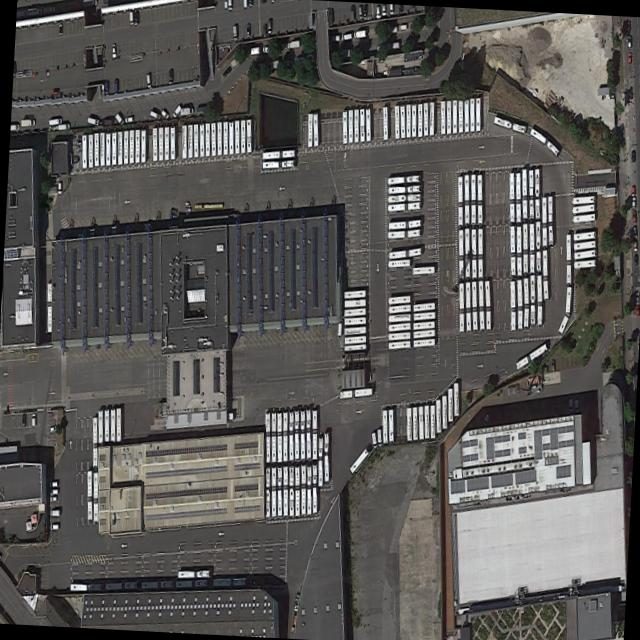large-vehicle: (514, 342, 547, 370), (529, 126, 558, 156), (348, 445, 369, 474), (493, 115, 525, 134), (387, 246, 420, 259), (470, 280, 477, 332), (463, 227, 470, 279), (261, 148, 294, 159), (387, 218, 420, 229), (387, 201, 420, 212), (387, 183, 420, 194), (535, 274, 542, 325), (541, 249, 548, 300), (339, 387, 371, 398), (477, 280, 484, 330), (261, 158, 295, 168), (174, 578, 208, 588), (387, 228, 419, 238), (140, 579, 172, 589), (522, 276, 528, 328), (484, 279, 490, 331), (457, 229, 463, 280), (470, 228, 476, 279), (476, 228, 482, 279), (529, 274, 535, 325), (509, 225, 515, 276), (515, 225, 521, 276), (546, 195, 552, 246), (509, 279, 515, 330), (386, 174, 420, 183), (323, 431, 329, 482), (91, 416, 97, 467), (516, 279, 522, 329), (534, 221, 540, 271), (387, 193, 420, 202), (69, 582, 102, 591), (212, 577, 245, 586), (317, 434, 322, 487), (104, 581, 137, 589), (311, 408, 316, 460), (514, 171, 519, 223), (477, 173, 482, 225), (305, 407, 310, 459), (276, 464, 281, 516), (293, 464, 298, 516), (300, 462, 305, 514), (264, 411, 269, 463), (177, 569, 209, 577), (458, 282, 463, 333), (465, 281, 470, 332), (565, 233, 570, 284), (522, 223, 527, 274), (528, 222, 533, 273), (528, 169, 533, 220), (534, 168, 539, 219), (541, 196, 546, 247), (457, 175, 462, 226), (470, 173, 475, 224), (270, 465, 275, 516), (282, 465, 287, 516), (288, 464, 293, 515), (270, 411, 275, 462), (276, 411, 281, 462), (282, 410, 287, 461), (288, 409, 293, 460), (86, 470, 91, 521), (387, 294, 410, 305), (572, 230, 595, 241), (571, 203, 594, 214), (521, 168, 526, 218), (299, 408, 304, 458), (46, 282, 51, 332), (412, 301, 434, 312), (343, 306, 365, 317), (573, 248, 595, 259), (572, 212, 594, 223), (364, 107, 371, 141), (557, 314, 568, 335), (387, 312, 410, 322), (387, 304, 410, 314), (411, 265, 434, 275), (387, 339, 409, 349), (387, 330, 409, 340), (387, 321, 409, 331), (343, 325, 365, 335), (306, 462, 310, 515), (412, 328, 433, 338), (412, 320, 433, 330), (343, 289, 364, 299), (571, 195, 594, 204), (417, 405, 423, 439), (405, 407, 411, 441), (387, 408, 393, 442), (312, 112, 318, 146), (464, 174, 468, 225), (294, 408, 298, 459), (265, 466, 269, 517), (151, 127, 157, 161), (157, 126, 163, 160), (192, 123, 198, 157), (198, 122, 204, 156), (210, 122, 216, 156), (93, 471, 97, 522), (509, 172, 513, 222), (412, 338, 434, 347), (412, 311, 434, 320), (343, 335, 365, 344), (343, 316, 365, 325), (343, 298, 365, 307), (306, 113, 312, 146), (387, 259, 409, 268), (573, 259, 595, 268), (572, 240, 594, 249), (463, 99, 469, 132), (312, 463, 316, 512), (405, 102, 410, 138), (428, 100, 433, 136), (343, 343, 365, 351), (441, 394, 446, 429), (399, 103, 404, 138), (475, 97, 480, 132), (134, 128, 139, 163), (187, 123, 192, 158), (97, 408, 102, 443), (115, 406, 120, 441), (105, 131, 110, 166), (429, 404, 434, 438), (435, 399, 440, 433), (453, 382, 458, 416), (412, 406, 417, 440), (234, 119, 239, 153), (239, 119, 244, 153), (246, 118, 251, 152), (341, 110, 346, 144), (353, 108, 358, 142), (359, 107, 364, 141), (381, 409, 386, 443), (382, 106, 387, 140), (410, 103, 415, 137), (422, 102, 427, 136), (440, 100, 445, 134), (445, 100, 450, 134), (451, 99, 456, 133), (140, 128, 145, 162), (163, 126, 168, 160), (169, 125, 174, 159), (204, 122, 209, 156), (128, 129, 133, 163), (122, 129, 127, 163), (117, 130, 122, 164), (111, 131, 116, 165), (103, 408, 108, 442), (81, 134, 86, 168), (93, 132, 98, 166), (423, 405, 428, 438), (447, 388, 452, 421), (216, 122, 221, 155), (222, 121, 227, 154), (347, 109, 352, 142), (393, 105, 398, 138), (457, 99, 462, 132), (469, 98, 474, 131), (181, 125, 186, 158), (87, 134, 92, 167), (564, 286, 570, 312), (0, 444, 16, 453), (417, 102, 421, 137), (99, 131, 103, 166), (228, 120, 232, 154), (110, 407, 114, 441)
small-vehicle: (27, 6, 41, 17), (171, 104, 181, 118), (149, 109, 161, 120), (221, 64, 231, 77), (286, 39, 299, 49), (179, 106, 193, 115), (353, 29, 365, 39), (370, 432, 377, 449), (114, 112, 123, 125), (481, 412, 489, 426), (20, 118, 34, 126), (48, 117, 62, 125), (86, 116, 98, 125), (327, 8, 333, 25), (112, 78, 118, 94), (42, 5, 54, 13), (133, 9, 139, 25), (376, 429, 381, 447), (48, 509, 59, 517), (58, 122, 69, 130), (328, 34, 339, 42), (340, 32, 351, 40), (82, 0, 96, 6), (145, 72, 150, 88), (160, 109, 168, 119), (631, 225, 637, 238), (349, 4, 354, 19), (128, 11, 133, 25), (245, 22, 250, 36), (261, 45, 271, 52), (375, 4, 380, 18), (357, 5, 362, 19), (631, 210, 636, 224), (232, 24, 236, 41), (48, 424, 56, 432), (111, 42, 115, 58), (568, 397, 572, 413), (48, 480, 57, 487), (49, 523, 58, 530), (168, 68, 172, 83), (574, 398, 578, 413), (550, 359, 555, 371), (267, 18, 271, 33), (262, 22, 266, 37), (49, 488, 57, 495), (635, 303, 639, 317), (31, 412, 35, 426), (362, 4, 367, 15), (397, 24, 406, 30), (21, 413, 25, 426), (631, 196, 635, 209), (631, 149, 635, 162), (627, 35, 631, 48), (227, 0, 232, 10), (124, 116, 131, 123), (633, 253, 637, 265), (634, 291, 638, 303), (58, 22, 62, 34), (633, 239, 637, 251), (627, 51, 631, 63), (631, 185, 635, 196), (223, 0, 227, 9), (48, 496, 56, 500)
